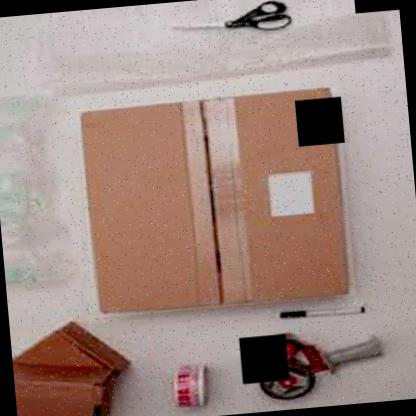box: (76, 86, 356, 318)
